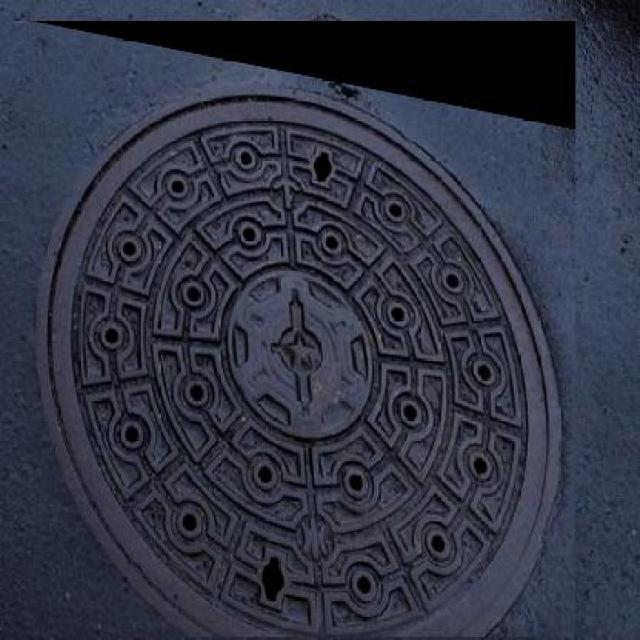Manhole: (28, 20, 576, 637)
